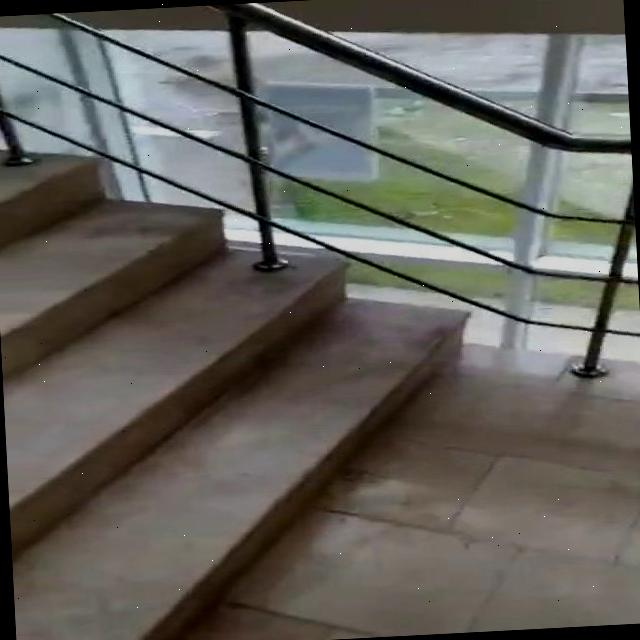stairs: (0, 120, 487, 640)
